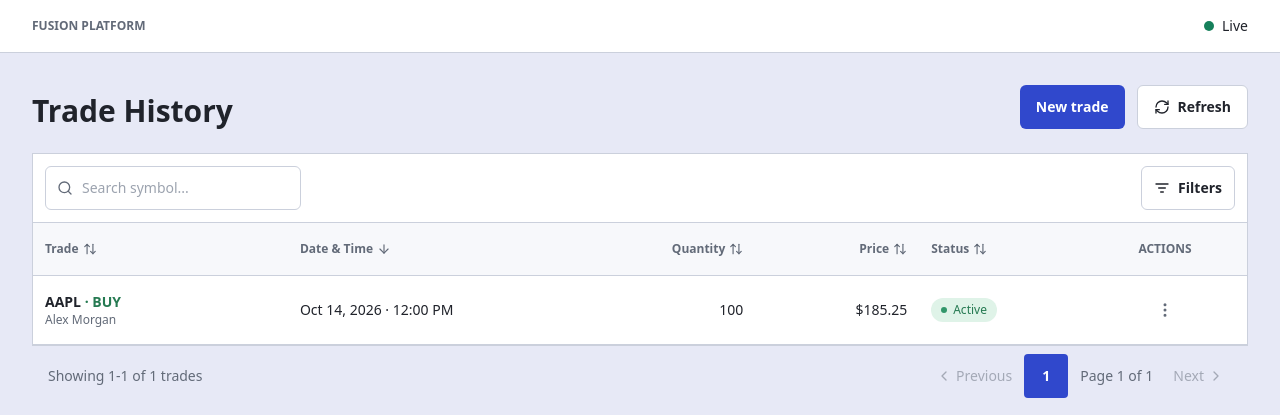
Test: TradeHistoryPage › refreshes the snapshot on demand and shows the latest trades
Check: the text "AAPL" is shown, box [45, 292, 81, 311]
Click the button with aria-label "Refresh trades" at (1192,107), box [1136, 85, 1248, 129]
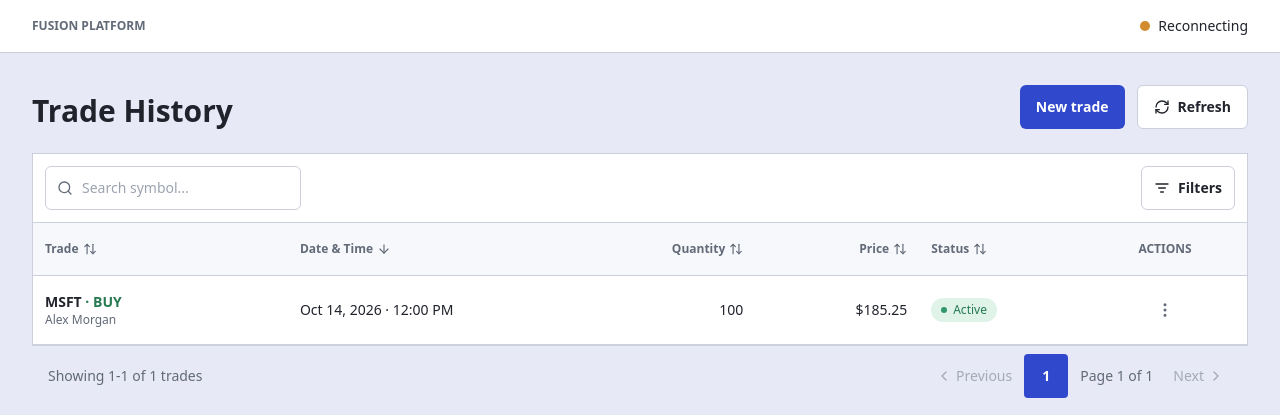
Check: the text "MSFT" is shown, box [45, 292, 82, 311]
Check: the text "AAPL" is gone
